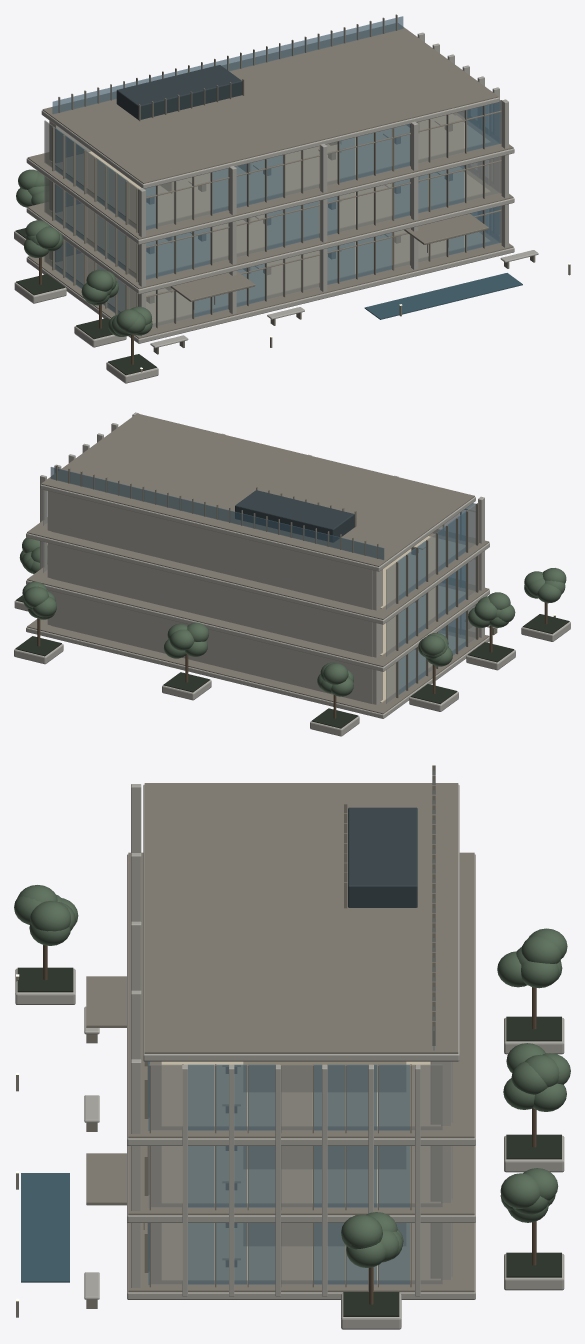
Rendered from architecture.glb.
The picture shows the model from 3 angles, top to bottom: view 1: azimuth 30°, elevation 25°; view 2: azimuth 150°, elevation 25°; view 3: azimuth 270°, elevation 25°; orthographic projection. The views are drawn at different scales.
Parts seen in each view (by area): view 1: floors, facade, details, landscape, structure; view 2: floors, structure, landscape, facade, details; view 3: floors, facade, landscape, details, structure.
Boxes of the visible parts, left/top/right/bottom form: floors: left=26, top=23, right=514, bottom=343; facade: left=44, top=100, right=501, bottom=328; details: left=52, top=14, right=488, bottom=309; landscape: left=14, top=169, right=570, bottom=383; structure: left=49, top=32, right=508, bottom=336; floors: left=26, top=413, right=489, bottom=718; structure: left=40, top=412, right=484, bottom=704; landscape: left=14, top=537, right=570, bottom=736; facade: left=43, top=490, right=478, bottom=703; details: left=50, top=465, right=425, bottom=649; floors: left=127, top=783, right=475, bottom=1299; facade: left=144, top=1061, right=442, bottom=1287; landscape: left=14, top=885, right=570, bottom=1329; details: left=86, top=765, right=435, bottom=1266; structure: left=131, top=784, right=452, bottom=1296.
Size of what is drawn, in the model's own units: 36.01 by 12.72 by 23.93.
